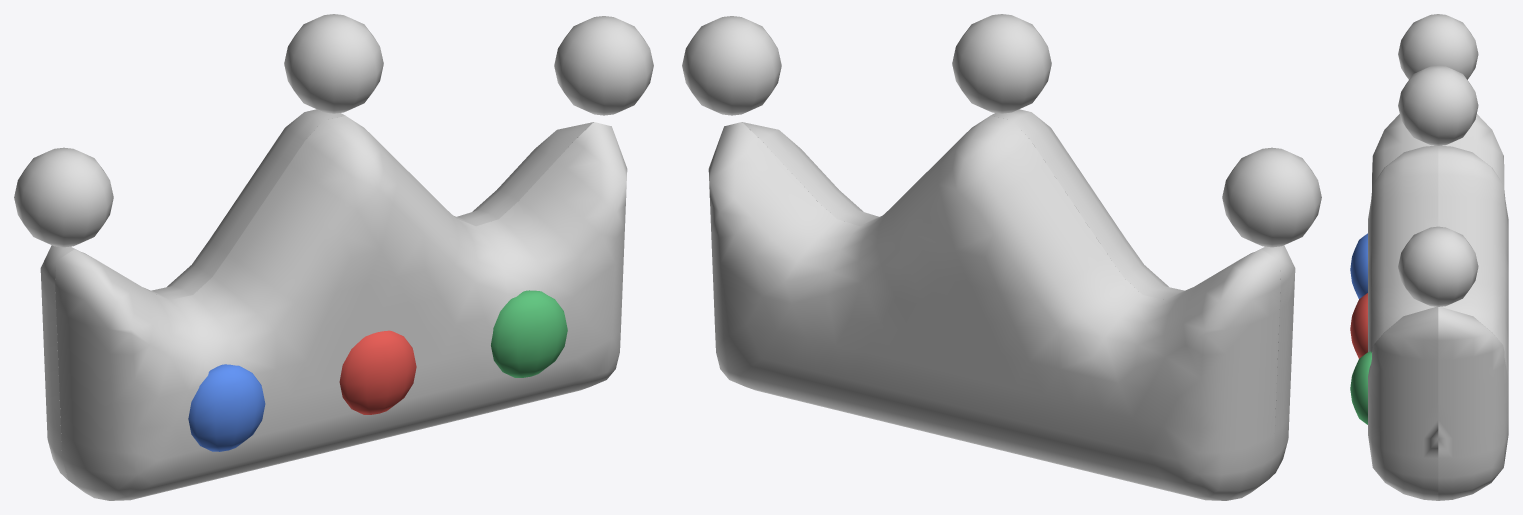
The model's file is crown.glb.
3 renders of one model, left to right at view 1: azimuth 30°, elevation 25°; view 2: azimuth 150°, elevation 25°; view 3: azimuth 270°, elevation 25°, orthographic. The views are drawn at different scales.
Visible parts, largest first — view 1: crown; view 2: crown; view 3: crown.
Part boxes in pixels (x1,y1,x2,y2): crown: (14,14,653,500); crown: (682,14,1321,500); crown: (1350,14,1508,500).
Bounding box in the file's own units: 1 × 0.6379 × 0.2716.
